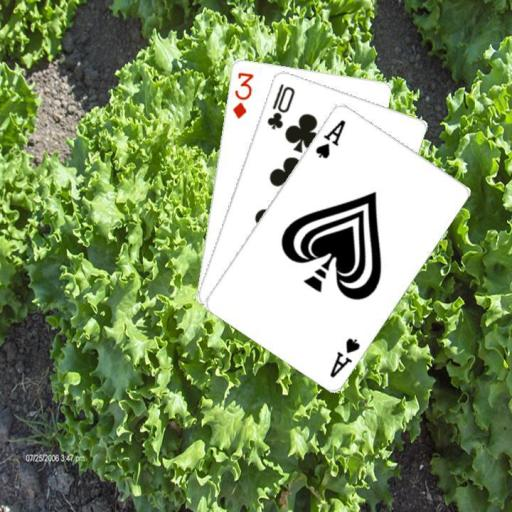10C: (263, 80, 297, 131)
3D: (229, 68, 255, 120)
AS: (326, 334, 362, 379), (311, 116, 347, 160)
